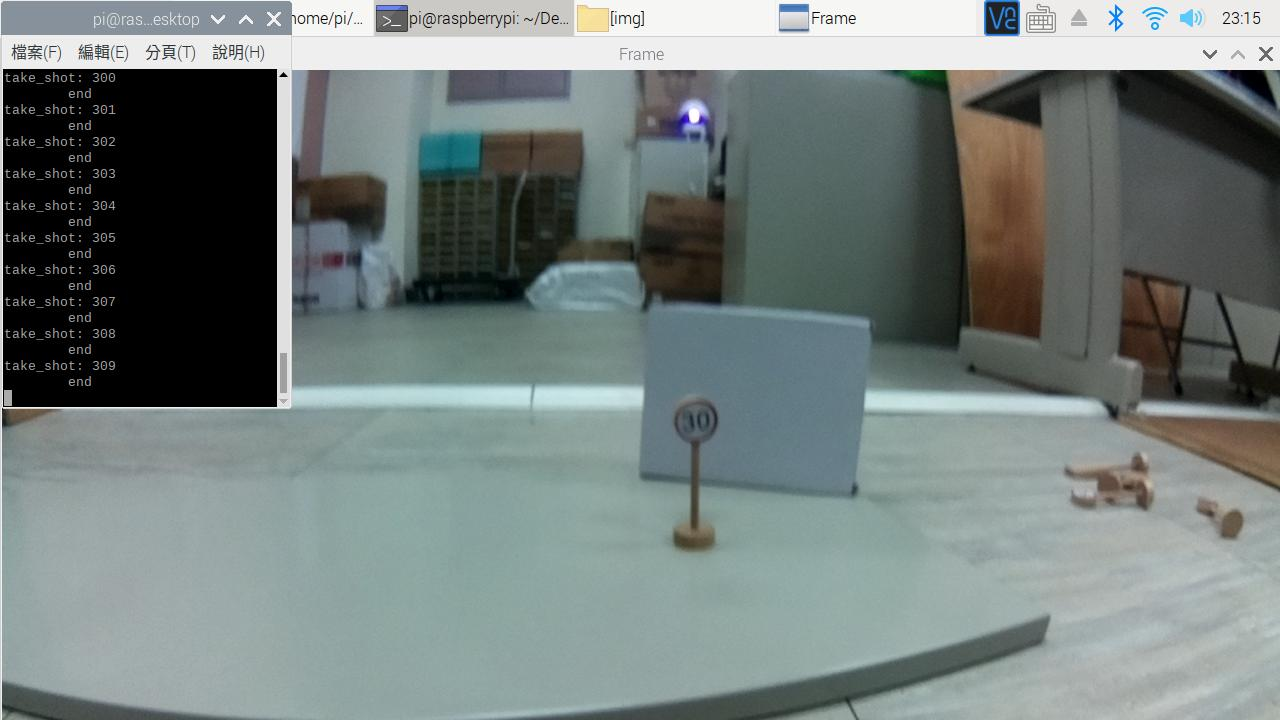Speed30: (664, 390, 735, 449)
